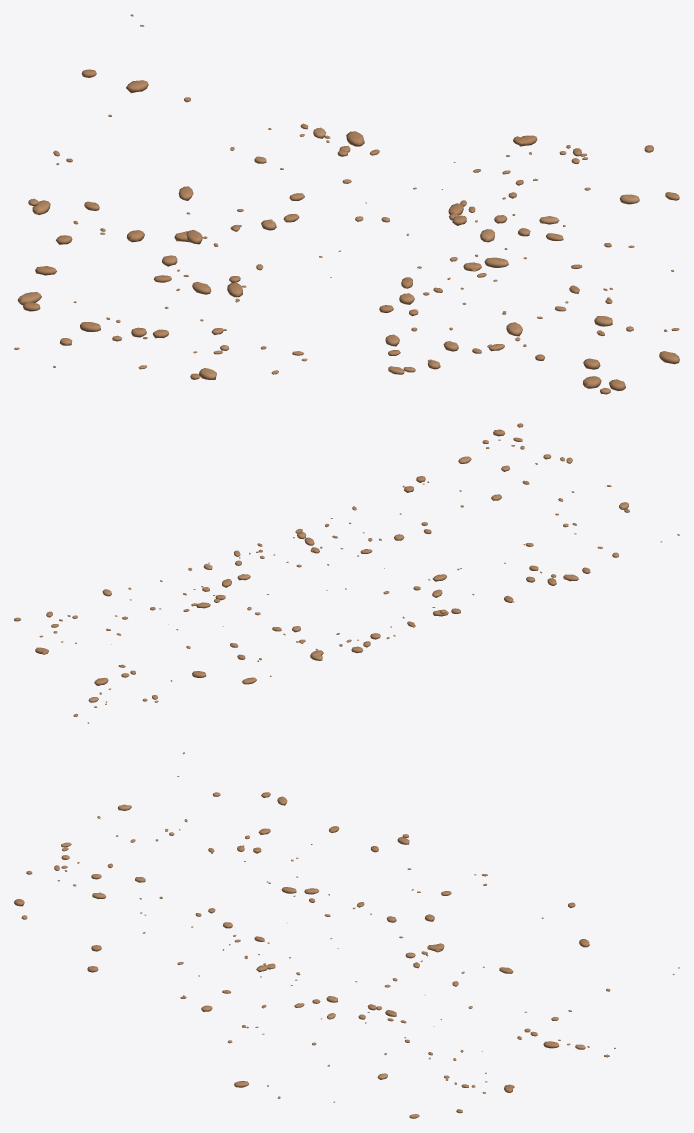
File: terrain-105.glb
3 renders of one model, top to bottom at view 1: azimuth 30°, elevation 25°; view 2: azimuth 150°, elevation 25°; view 3: azimuth 270°, elevation 25°, orthographic. The views are drawn at different scales.
Visible parts, largest first — view 1: terrain-105; view 2: terrain-105; view 3: terrain-105.
Part boxes in pixels (bbox=[...]): terrain-105: bbox=[14, 14, 679, 394]; terrain-105: bbox=[14, 423, 679, 723]; terrain-105: bbox=[14, 752, 679, 1118].
Bounding box in the file's own units: 62.95 × 15.28 × 70.15.
